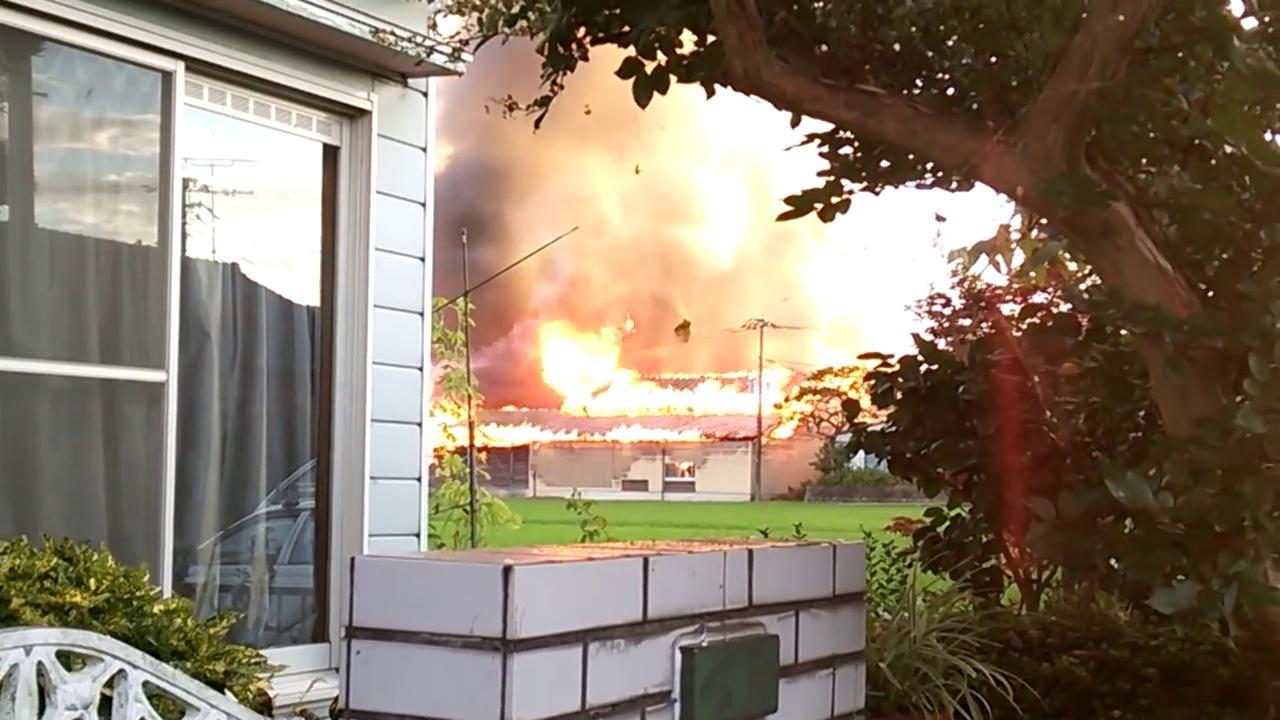Fire: (556, 329, 783, 415), (773, 372, 867, 439), (484, 426, 710, 452), (501, 400, 538, 413)
